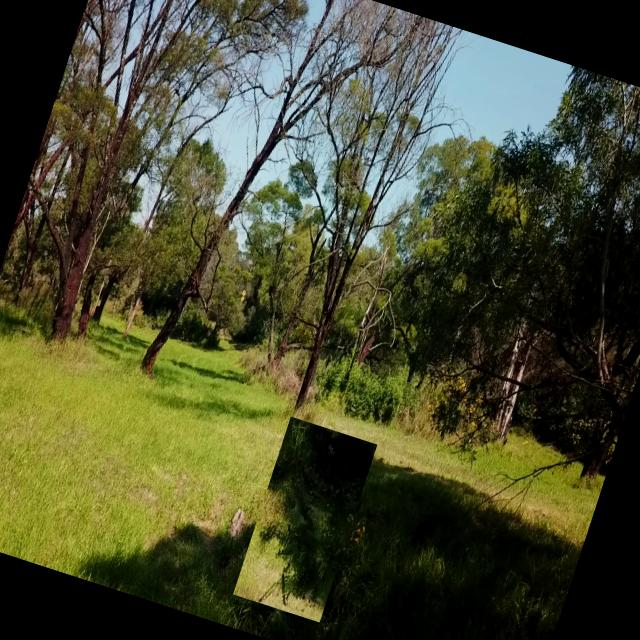Mysore-Thorn-Weed: (233, 417, 377, 622)
